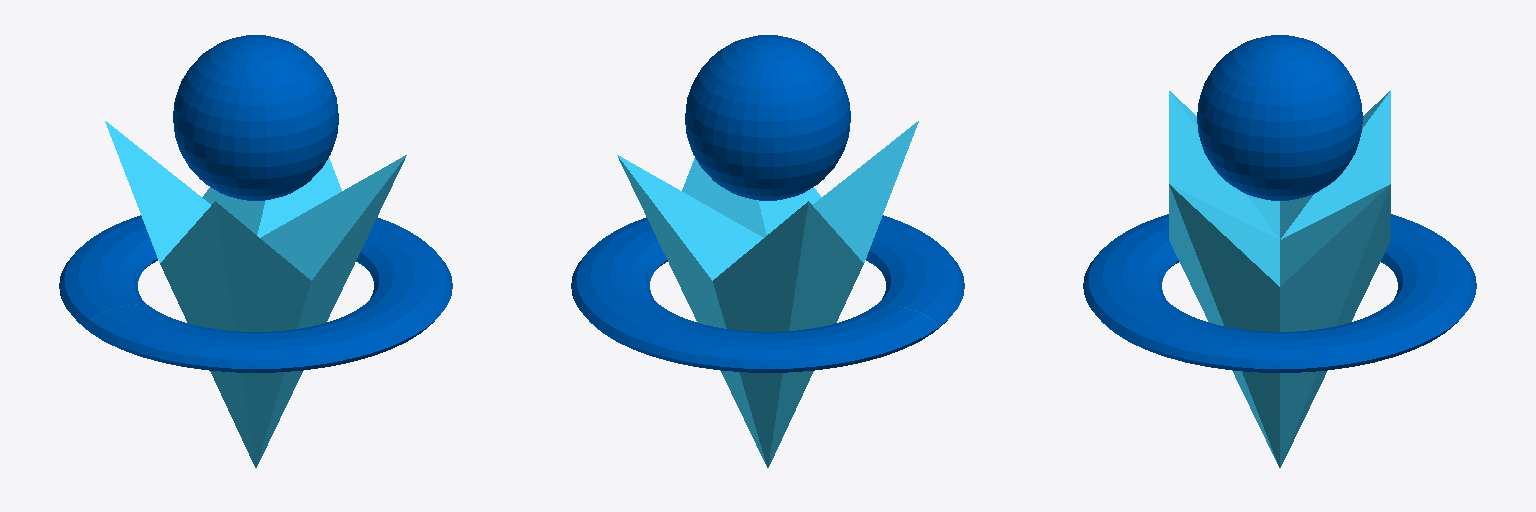
3 renders of one model, left to right at view 1: azimuth 30°, elevation 25°; view 2: azimuth 150°, elevation 25°; view 3: azimuth 270°, elevation 25°, orthographic.
Parts seen in each view (by area): view 1: トーラス; view 2: トーラス; view 3: トーラス.
Boxes of the visible parts, <box> form: トーラス: <box>59,35,452,467</box>; トーラス: <box>571,35,964,467</box>; トーラス: <box>1083,35,1476,467</box>.
Size of the model in its own units: 1.78 by 2.12 by 1.77.
1 materials, 1 textured.